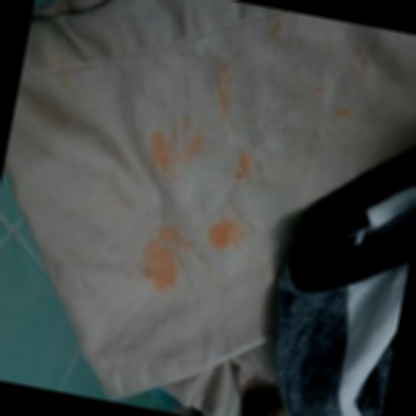kimchi: (126, 219, 196, 302), (145, 109, 209, 181), (39, 41, 97, 109), (201, 211, 256, 257), (211, 55, 242, 115), (229, 143, 255, 183), (330, 97, 358, 123), (263, 17, 286, 42), (315, 79, 329, 99), (359, 58, 374, 74)
